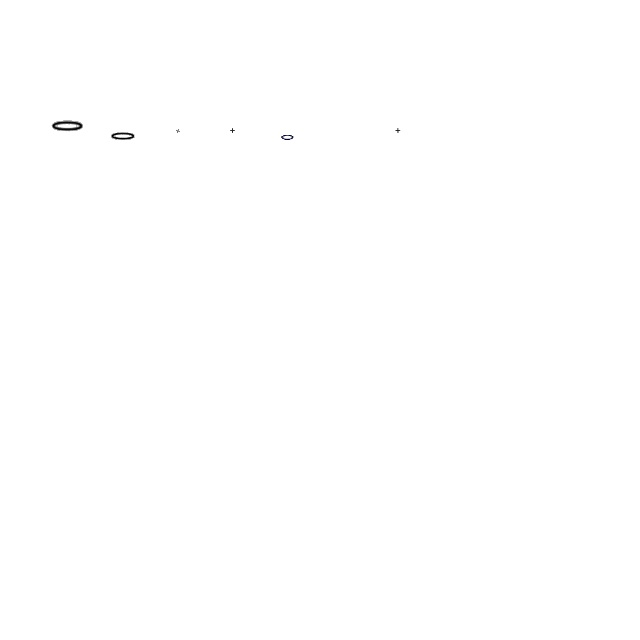chain: (50, 120, 86, 134), (109, 132, 137, 142), (280, 132, 296, 142)
double: (230, 128, 236, 134), (395, 128, 401, 134)
enseble_chain: (176, 129, 180, 133)
